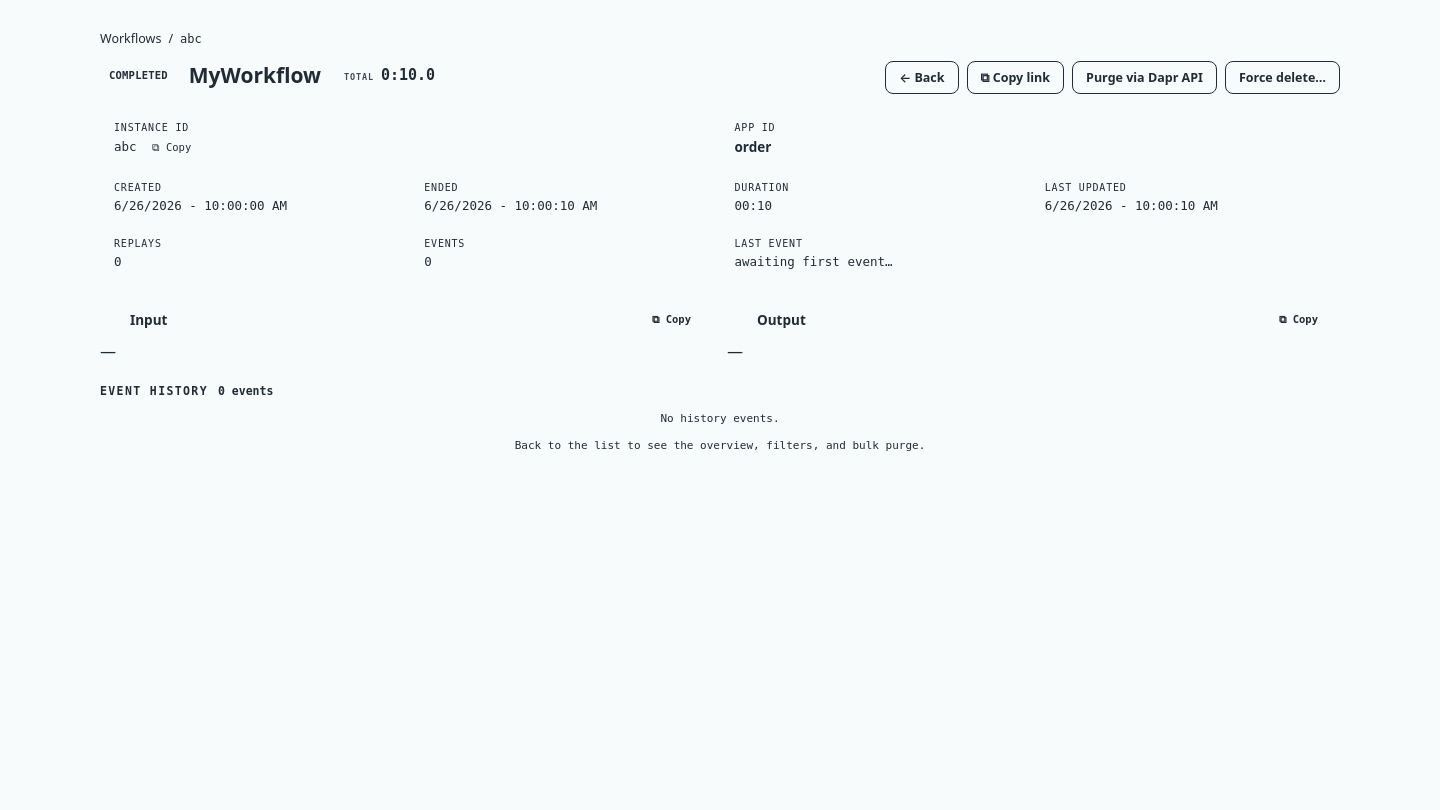
Test: WorkflowDetail › Purge button opens dialog with force checkbox unchecked
Expected: the text "COMPLETED" is shown, [109,69,168,81]
Click the button "Purge via Dapr API": [1144, 78] box [1072,61,1217,94]
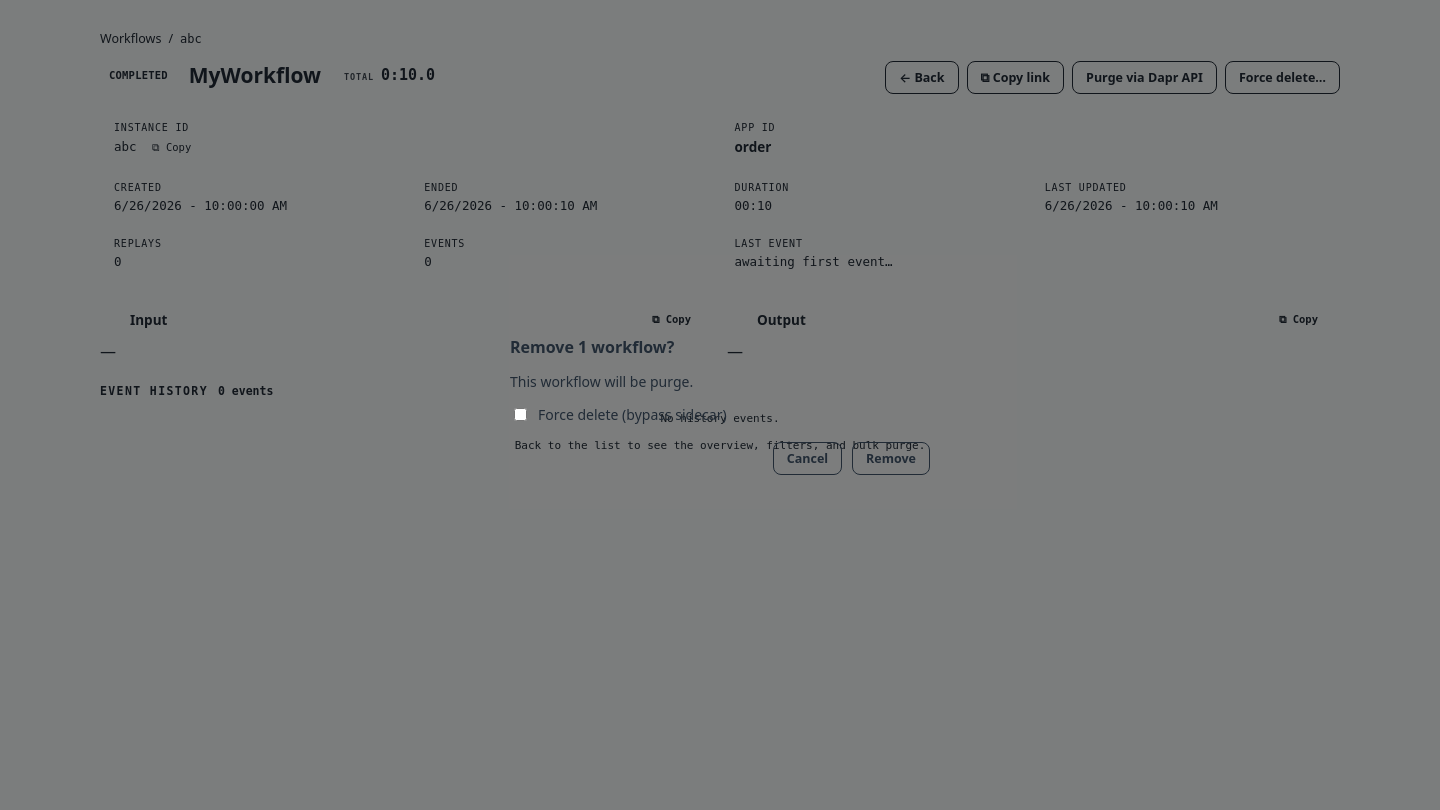
Result: the button with test id "confirm-remove" is shown at [852,442,930,474]
Result: the checkbox with test id "confirm-force" is not checked at [514,408,527,420]
